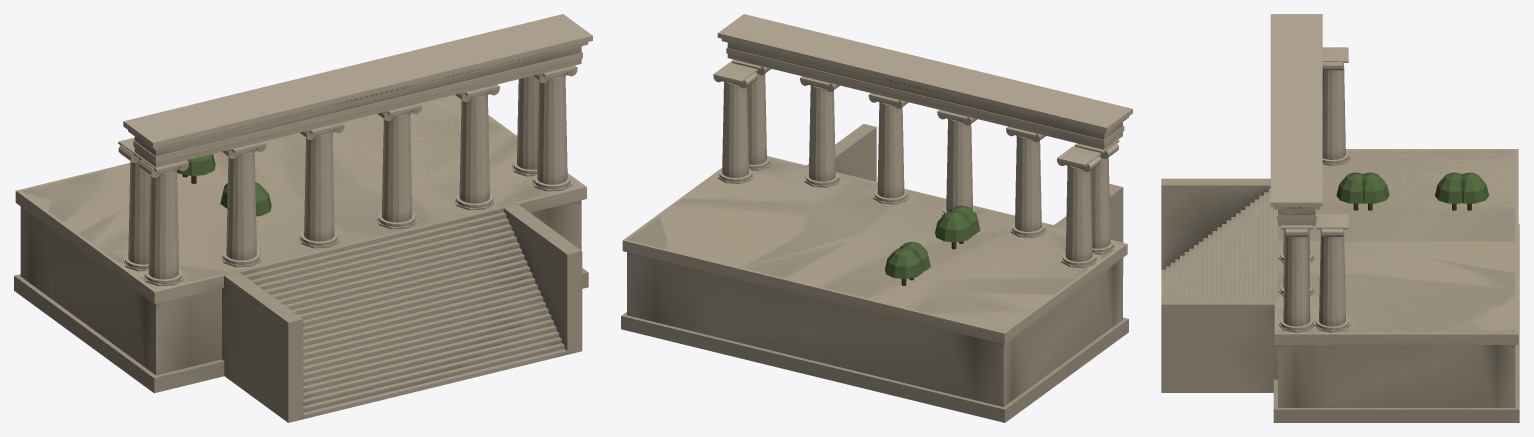
The model's file is temple-of-saturn-ruin.glb.
3 views of the same model, side by side, from view 1: azimuth 30°, elevation 25°; view 2: azimuth 150°, elevation 25°; view 3: azimuth 270°, elevation 25° (orthographic). The views are drawn at different scales.
Visible parts, largest first — view 1: p0_podium, p1_columns, p2_roof; view 2: p0_podium, p1_columns, p2_roof; view 3: p0_podium, p2_roof, p1_columns.
Boxes of the visible parts, box(x1,y1,x2,y2) form: p0_podium: box(14, 95, 588, 422); p1_columns: box(118, 65, 577, 286); p2_roof: box(123, 14, 592, 216); p0_podium: box(621, 124, 1128, 422); p1_columns: box(713, 59, 1119, 267); p2_roof: box(717, 14, 1132, 285); p0_podium: box(1161, 149, 1519, 422); p2_roof: box(1270, 14, 1488, 225); p1_columns: box(1278, 47, 1350, 332).
Size of the model in its own units: 41.32 by 22.64 by 33.2.
